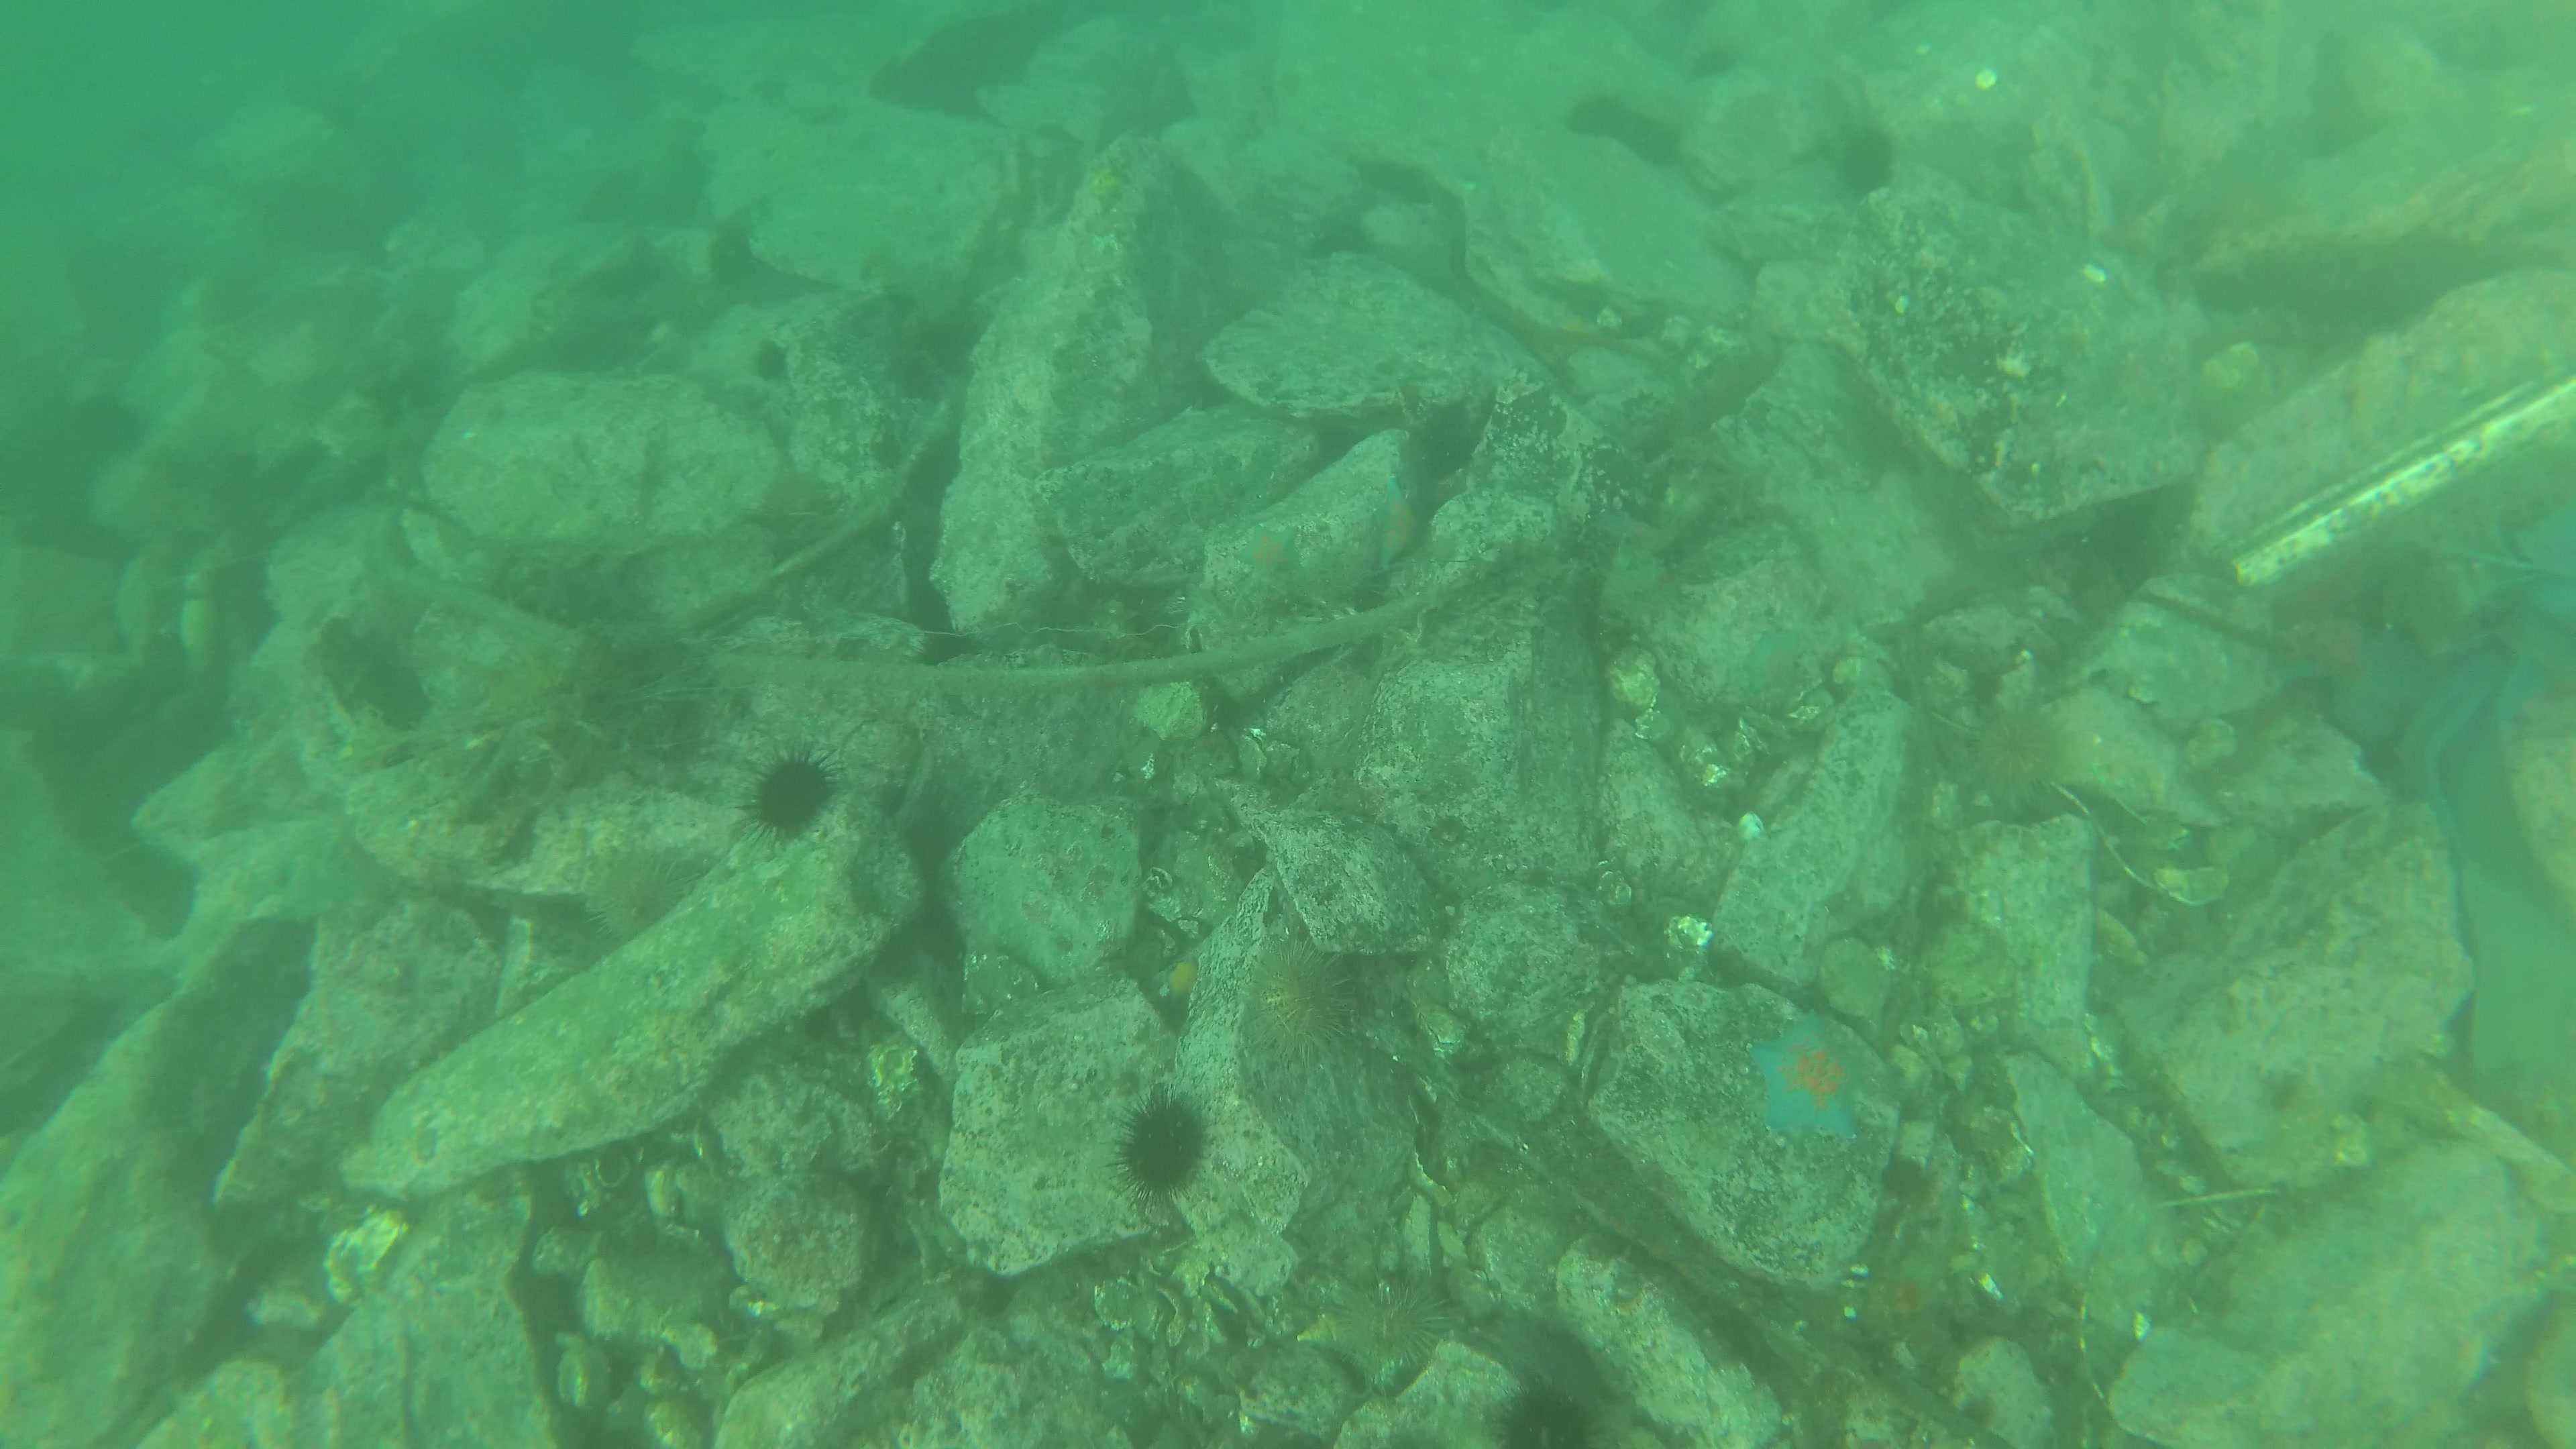echinus: (1104, 1077, 1235, 1217), (1951, 692, 2082, 826), (1247, 931, 1362, 1083), (734, 743, 863, 863), (1320, 1270, 1454, 1380), (1481, 1361, 1612, 1449)
starfish: (1746, 1003, 1877, 1154), (1874, 1254, 1957, 1343), (1366, 471, 1426, 579), (1230, 511, 1306, 594), (1736, 617, 1810, 699)
